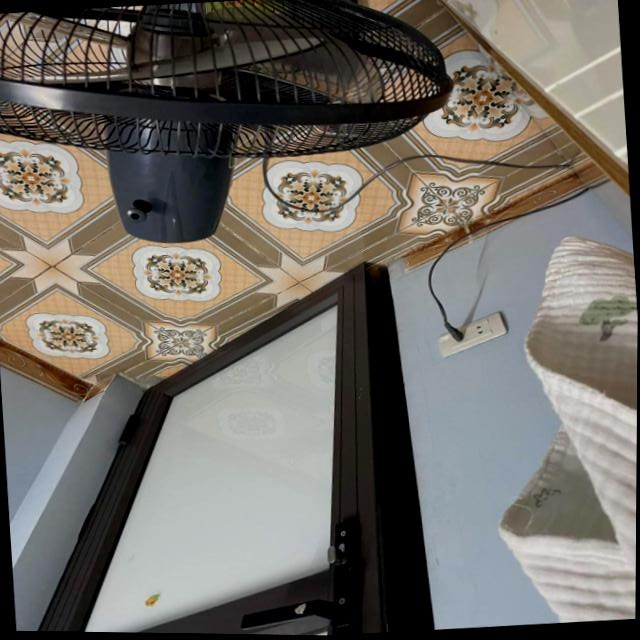outlet: (437, 308, 511, 358)
